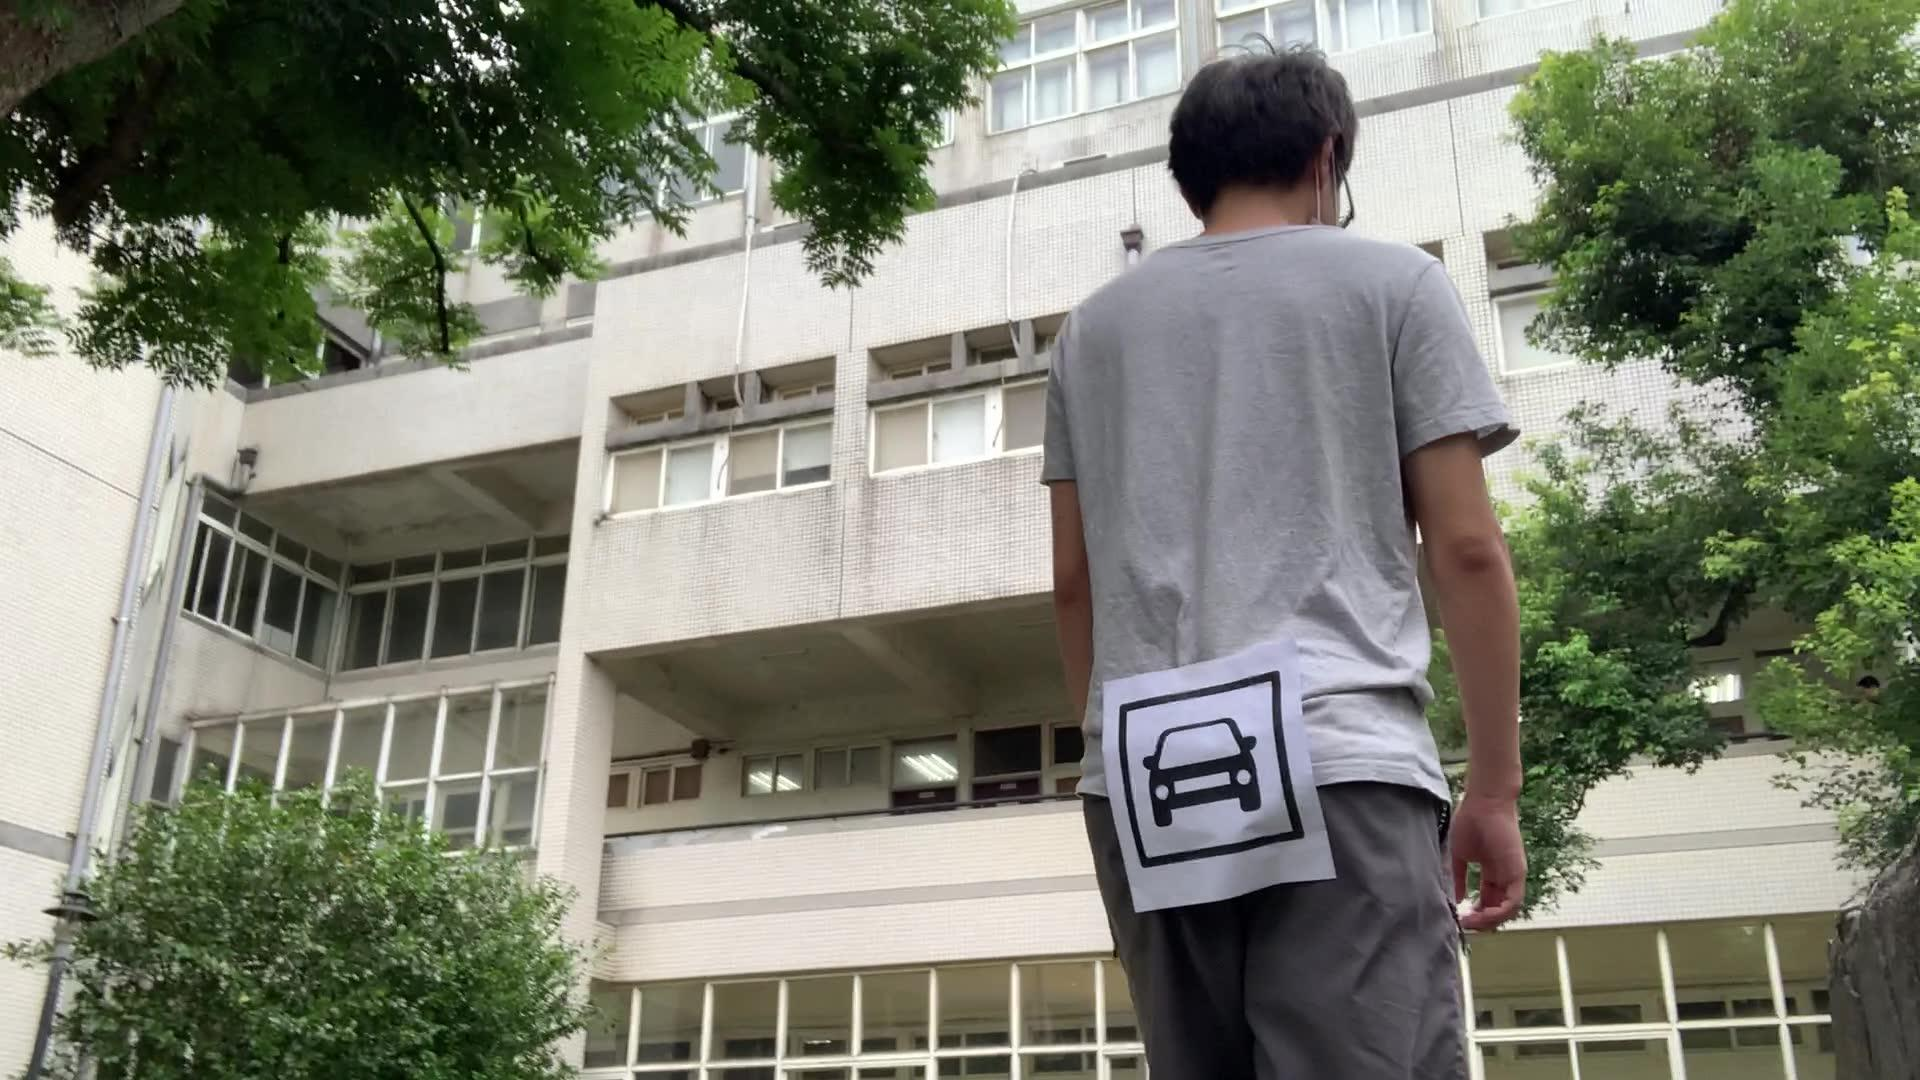car_img: (1117, 669, 1307, 869)
